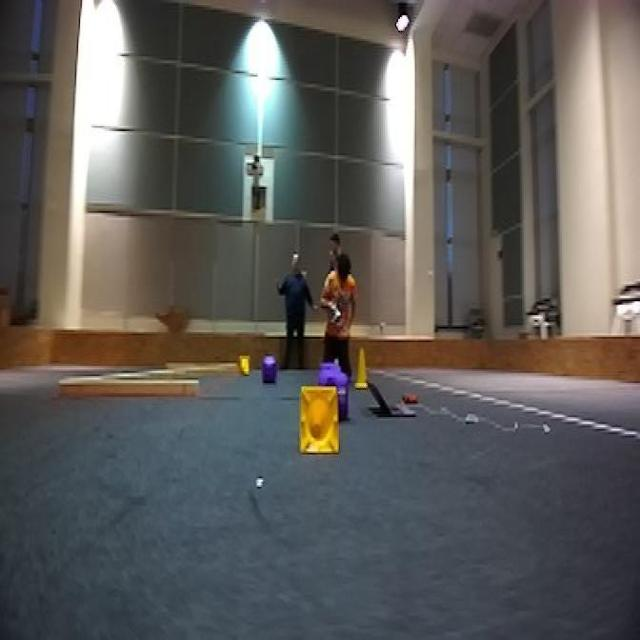frc_cone: (296, 381, 346, 463), (352, 347, 372, 385), (237, 349, 254, 376)
frc_cube: (328, 373, 352, 415), (260, 354, 279, 385)
